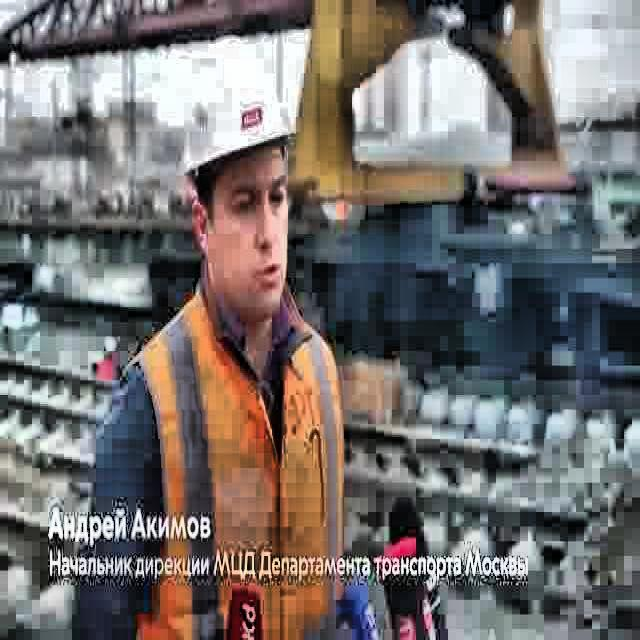safety_jacket: (121, 278, 348, 640)
